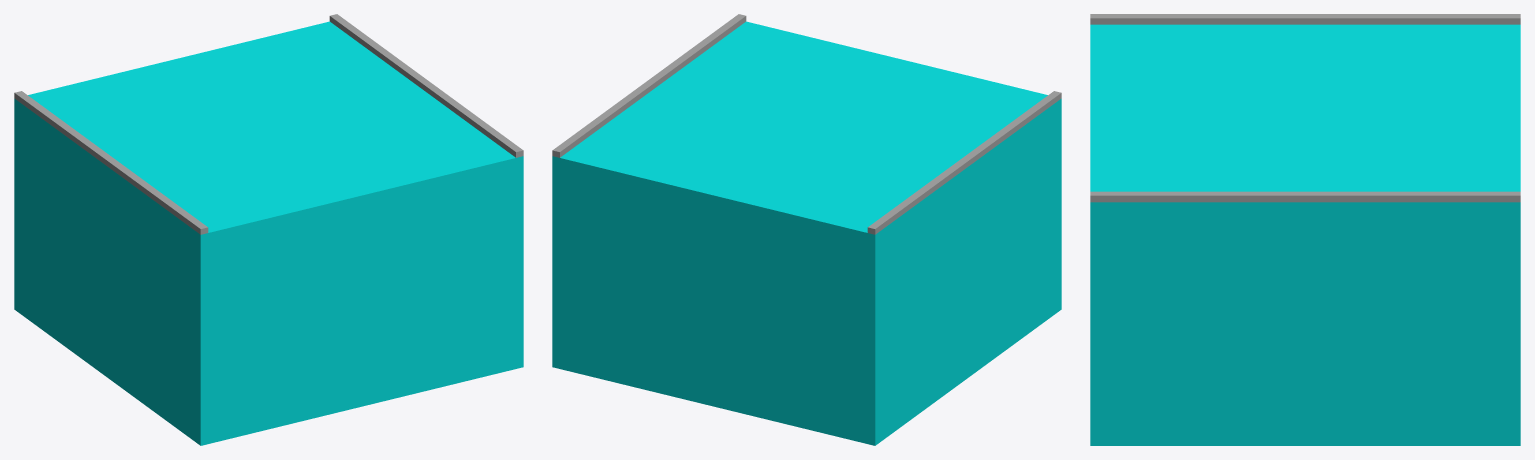
Rendered from Basique.fbx.
3 views of the same model, side by side, from view 1: azimuth 30°, elevation 25°; view 2: azimuth 150°, elevation 25°; view 3: azimuth 270°, elevation 25° (orthographic). The views are drawn at different scales.
Visible parts, largest first — view 1: basique; view 2: basique; view 3: basique.
Boxes of the visible parts, box(x1,y1,x2,y2) form: basique: box(14, 14, 523, 445); basique: box(552, 14, 1061, 445); basique: box(1090, 14, 1520, 445).
Bounding box in the file's own units: 800 × 513 × 800.
